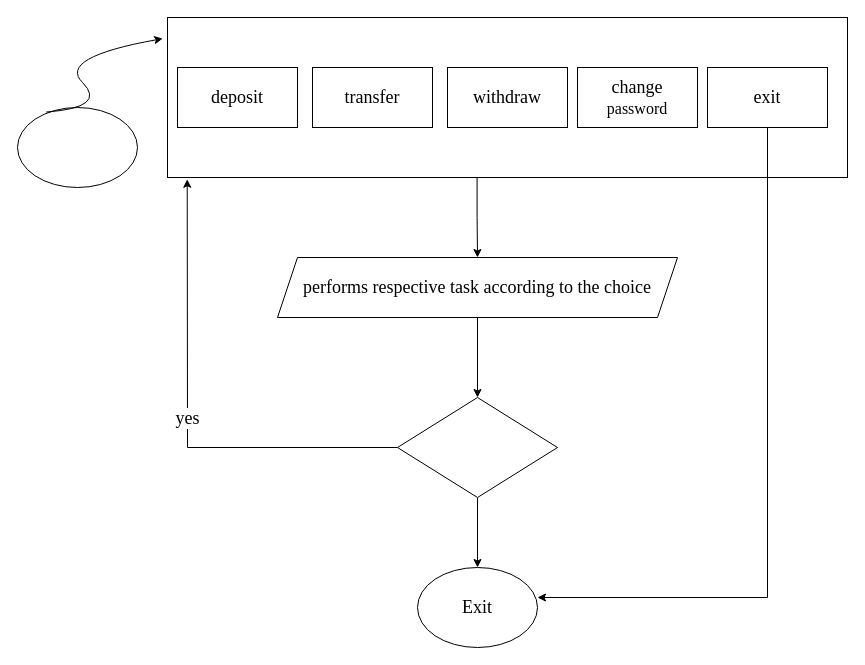
This 865x665 diagram has some shape labels left out. The centre of each missing label's shape, as x and y in pixels:
log in: (77,147)
perform another task?: (477,447)
